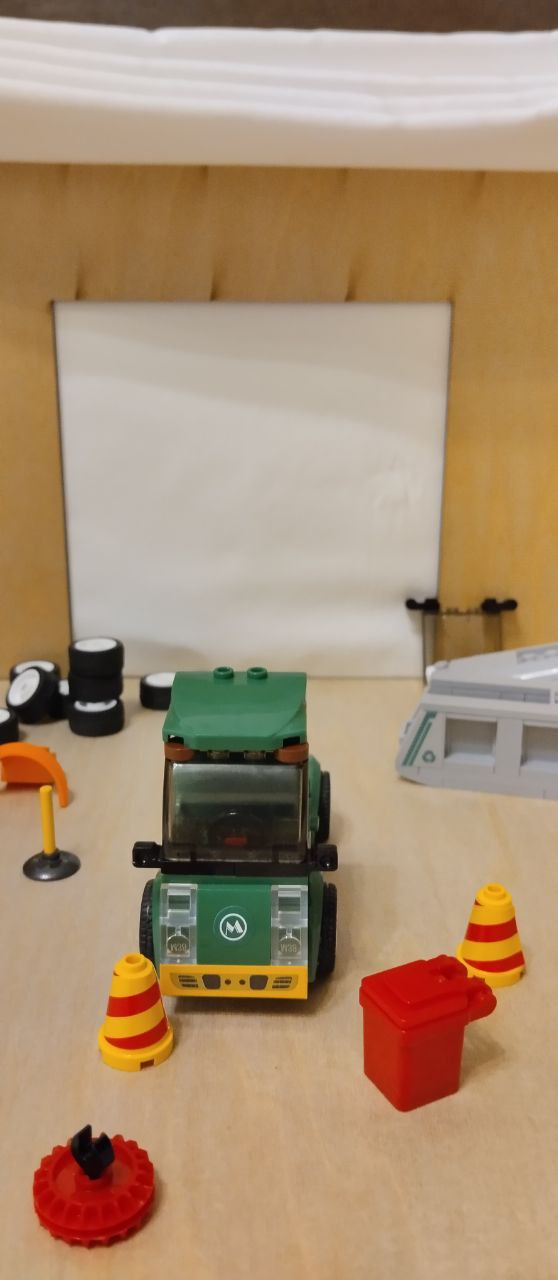Cone: (87, 953, 179, 1077), (455, 882, 540, 988)
Object Red: (351, 951, 501, 1115)
Truck: (127, 662, 343, 1007)
